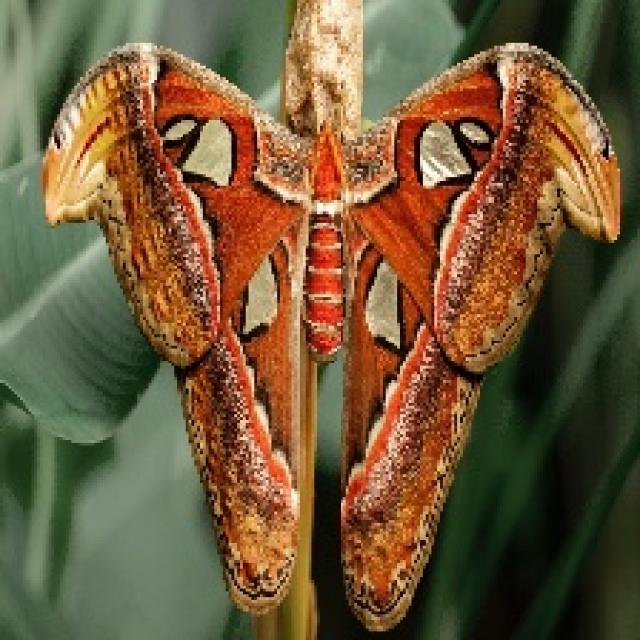butterfly: (37, 3, 623, 631)
